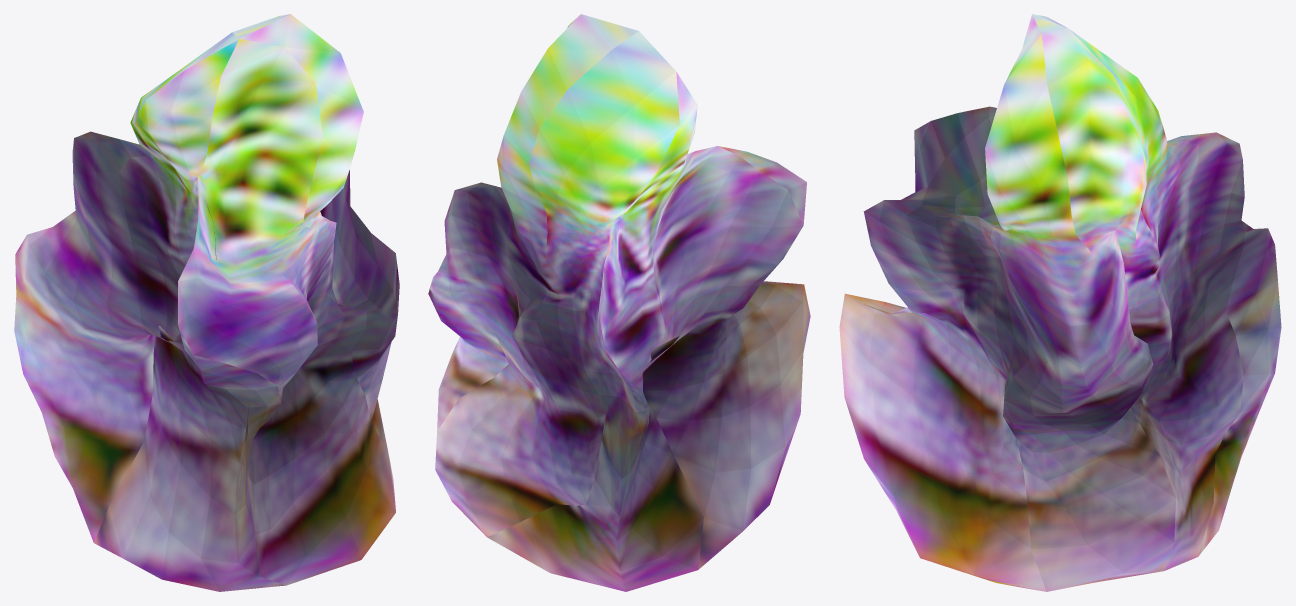
Rendered from purple_succulent.gltf.
3 views of the same model, side by side, from view 1: azimuth 30°, elevation 25°; view 2: azimuth 150°, elevation 25°; view 3: azimuth 270°, elevation 25° (orthographic). The views are drawn at different scales.
Parts seen in each view (by area): view 1: pMesh1; view 2: pMesh1; view 3: pMesh1.
Part boxes in pixels (<box>): pMesh1: <box>14,14,399,591</box>; pMesh1: <box>428,14,810,591</box>; pMesh1: <box>839,14,1281,591</box>.
Bounding box in the file's own units: 2.95 × 4.77 × 3.6.
Materials: 1 (1 with a texture image).
